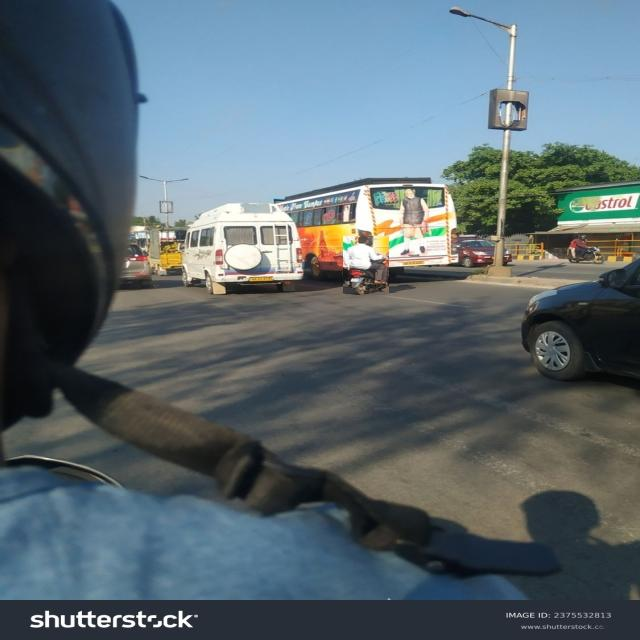bus: (277, 178, 457, 279), (181, 202, 302, 294)
motorcycle: (343, 236, 389, 295)
